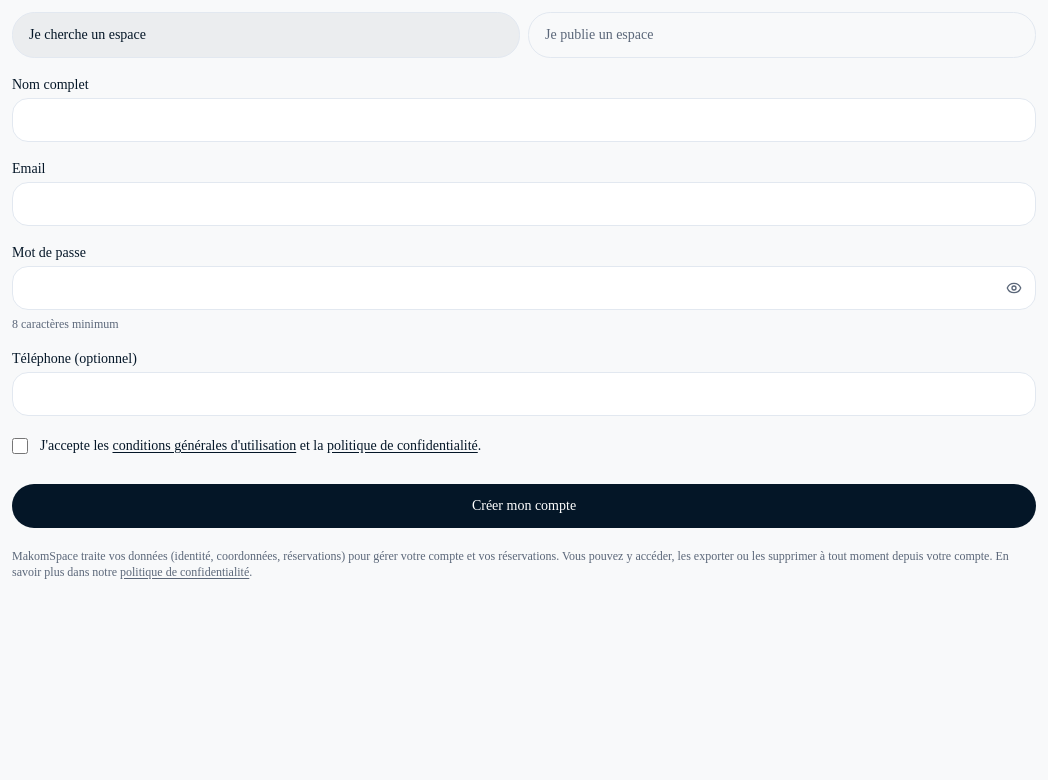
Test: RegisterForm (B-11, UX-12, SEC-15) › sends acceptTerms and shows a message that does not say whether the address was new
Type "Sam Client" into the field labelled "Nom complet" at {"x": 524, "y": 120}, box [12,98,1036,142]
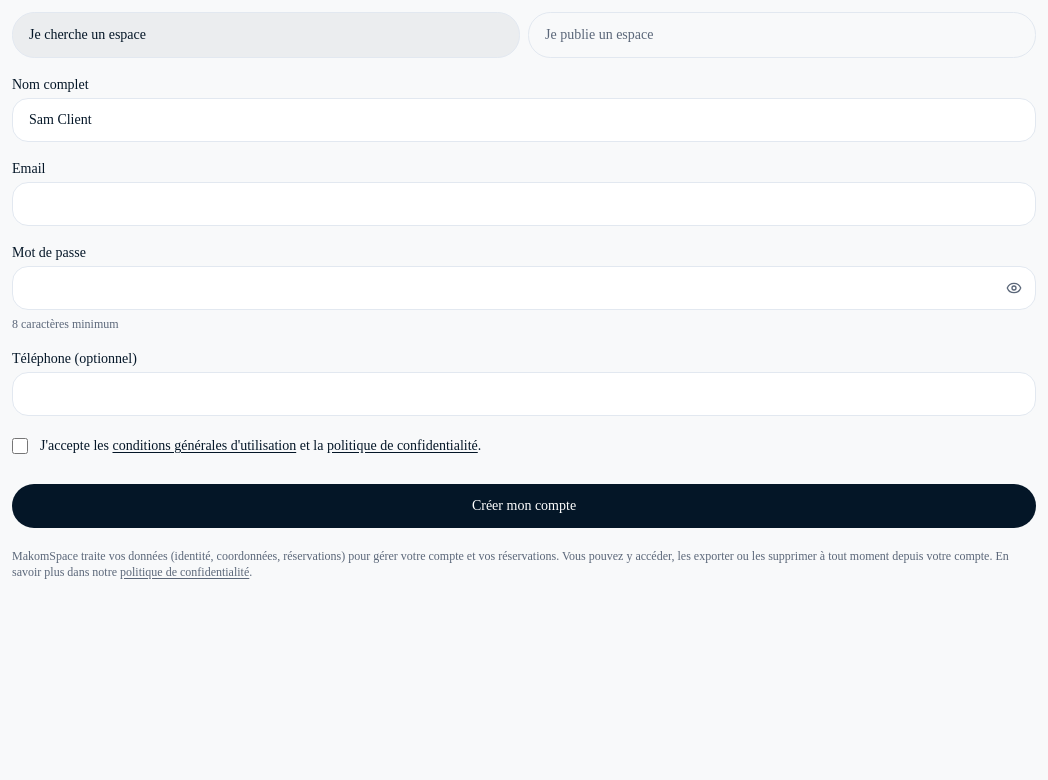
Type "sam@example.com" into the field labelled "Email" at {"x": 524, "y": 204}, box [12,182,1036,226]
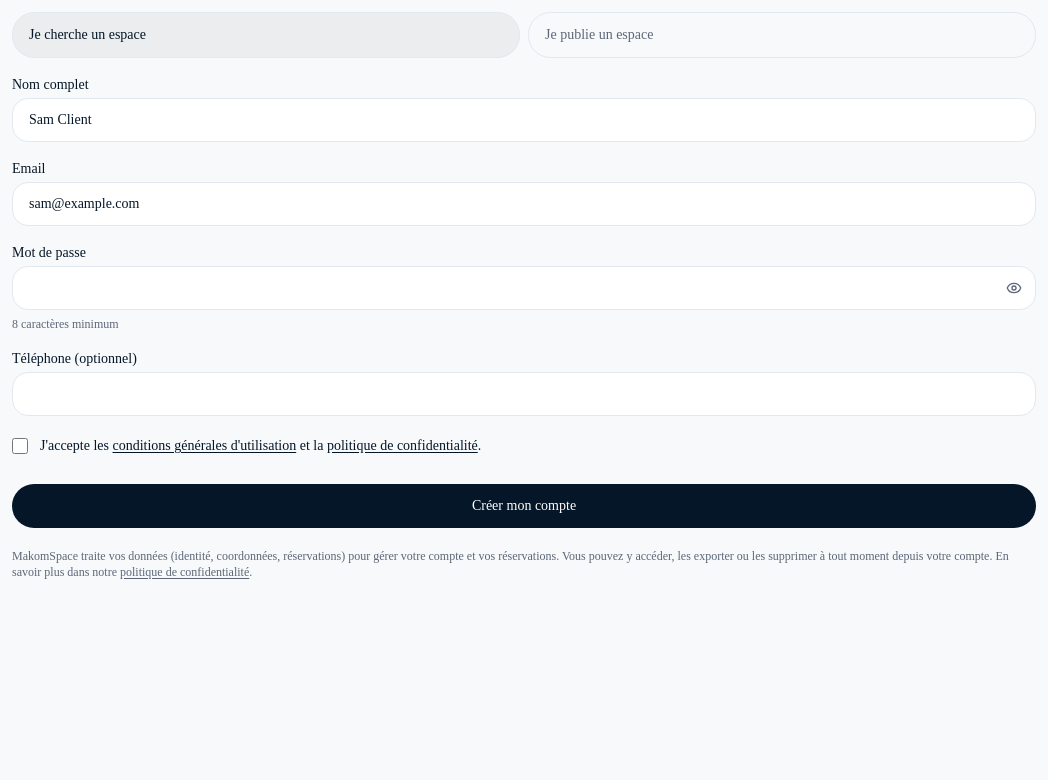
Type "supersecret" into the password field labelled "Mot de passe" at {"x": 524, "y": 288}, box [12,266,1036,310]
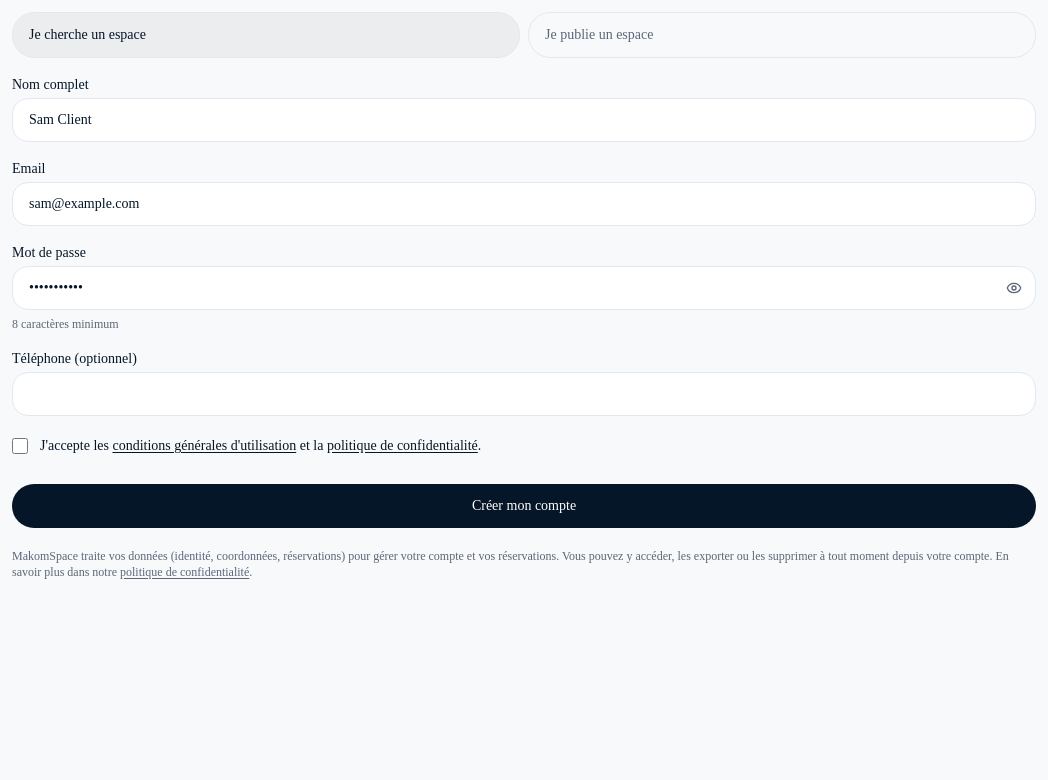
Click the checkbox at {"x": 20, "y": 446}, box [12,438,28,454]
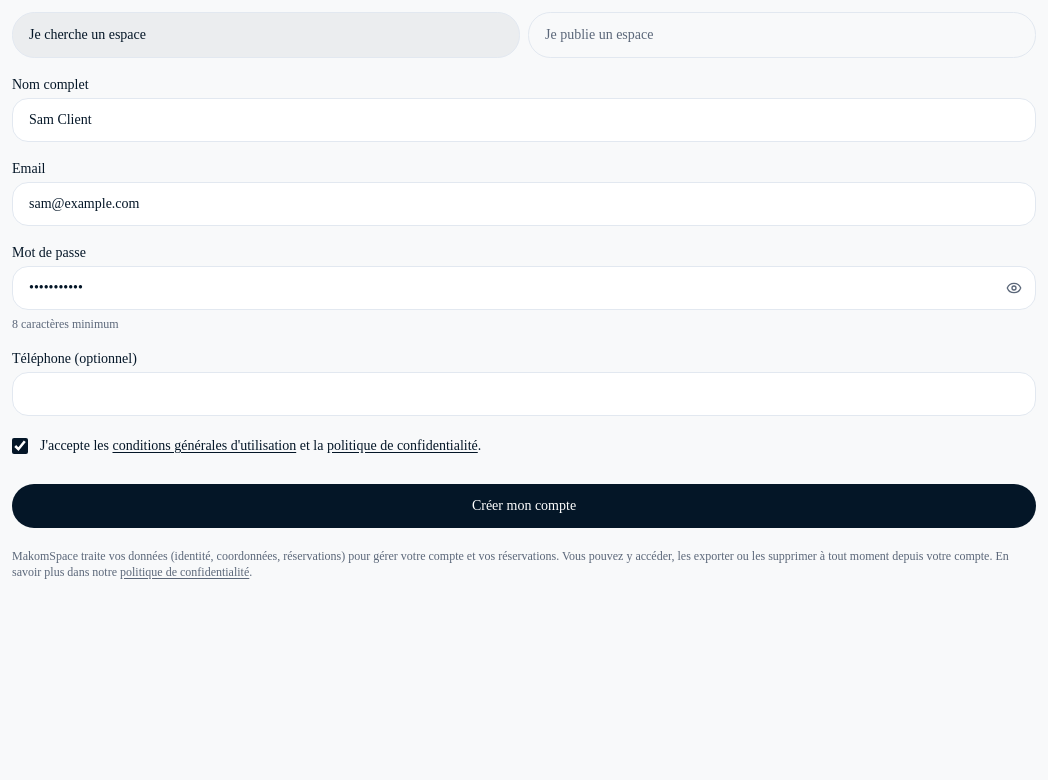
Click the button "Créer mon compte" at {"x": 524, "y": 506}, box [12,484,1036,528]
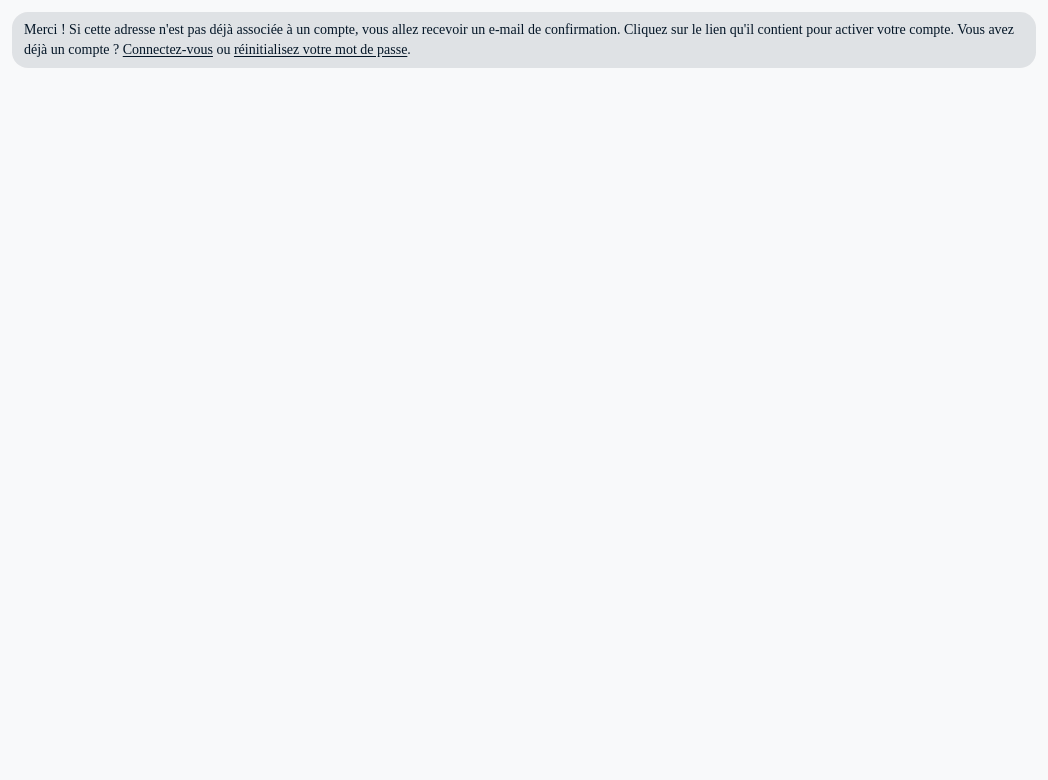
Expected: the text "Si cette adresse n.est pas déjà associée à un compte" is shown, [24,22,1014,57]
